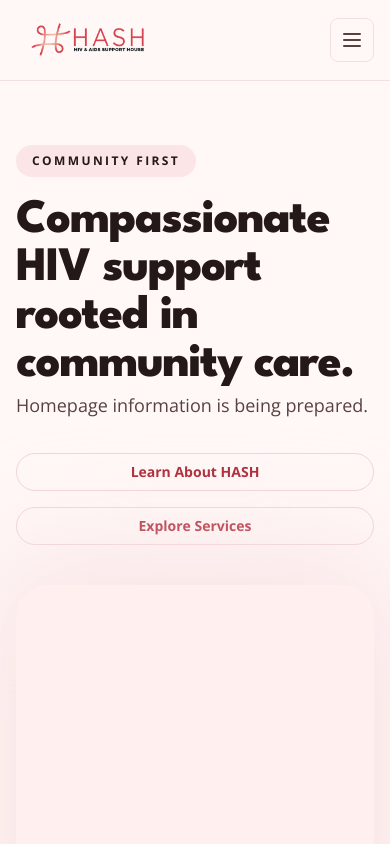
Scenario: HASH website routing › provides a toggleable mobile menu with the full navigation
What coordinates should you click on to do the following:
click the button named "Open navigation menu"
I would click on:
 (352, 40)
Its box is [330,18,374,62].
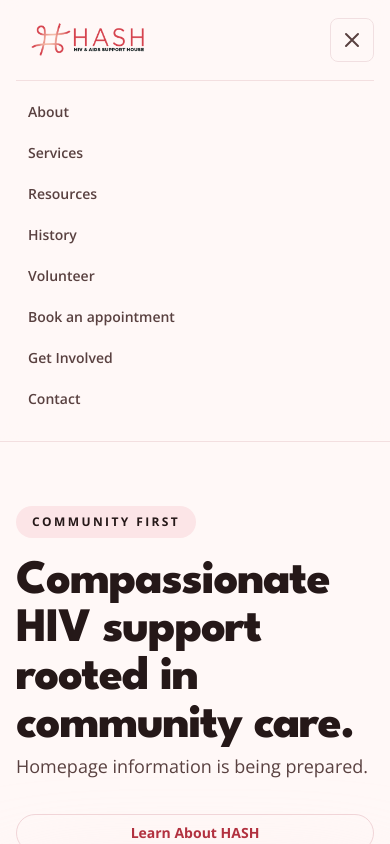
expect the link "About" is shown: met, box [28,102,69,121]
expect the link "Contact" is shown: met, box [28,389,80,408]
expect the button named "Close navigation menu" is expanded: met, box [330,18,374,62]
